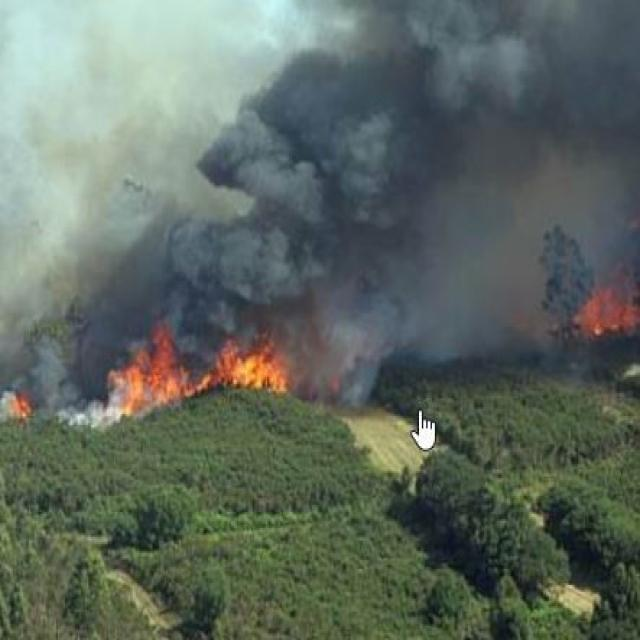Fire: (3, 333, 301, 413)
Smoke: (62, 0, 640, 353)
